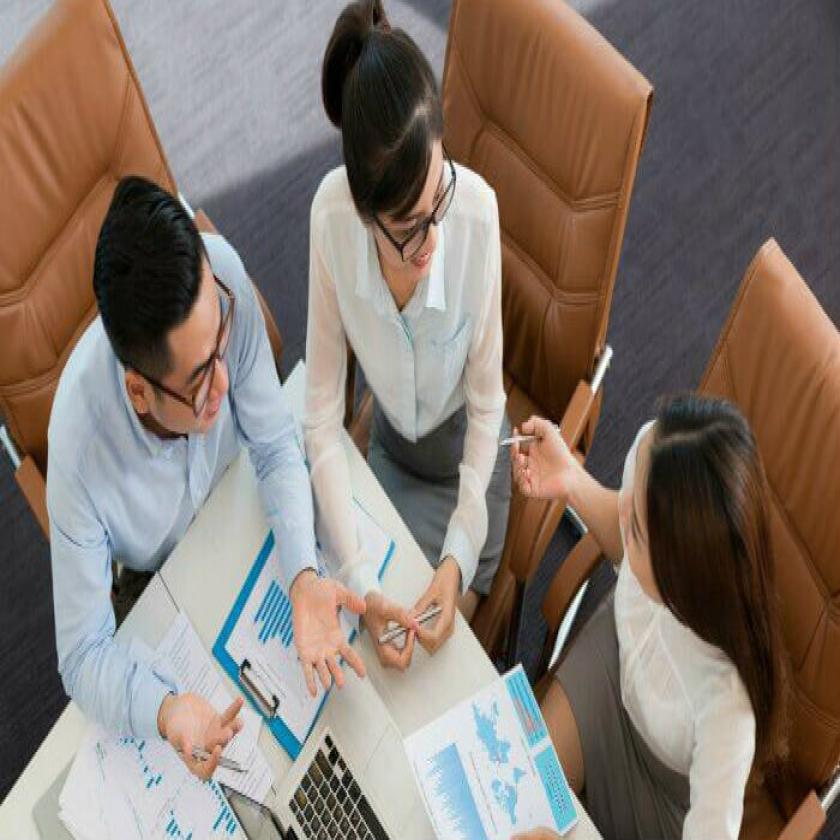Sin_casco: (94, 164, 235, 461), (618, 380, 761, 637), (345, 21, 452, 291)
